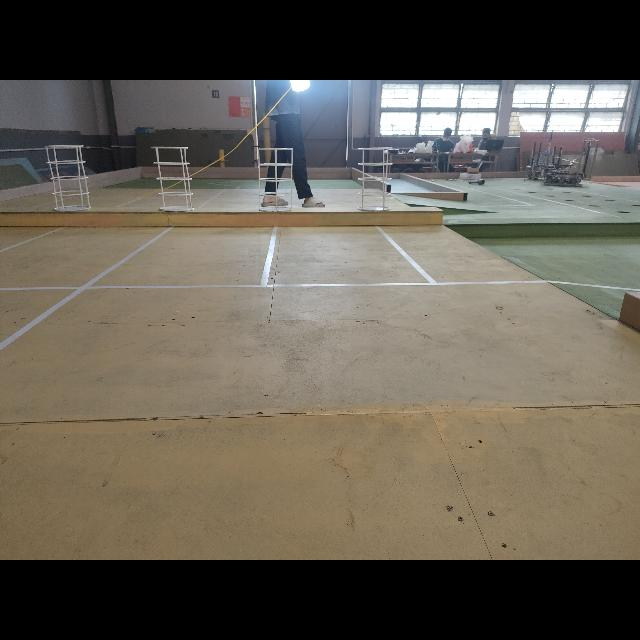S: (44, 142, 92, 212), (150, 142, 198, 210), (254, 144, 296, 216), (356, 144, 394, 216)
